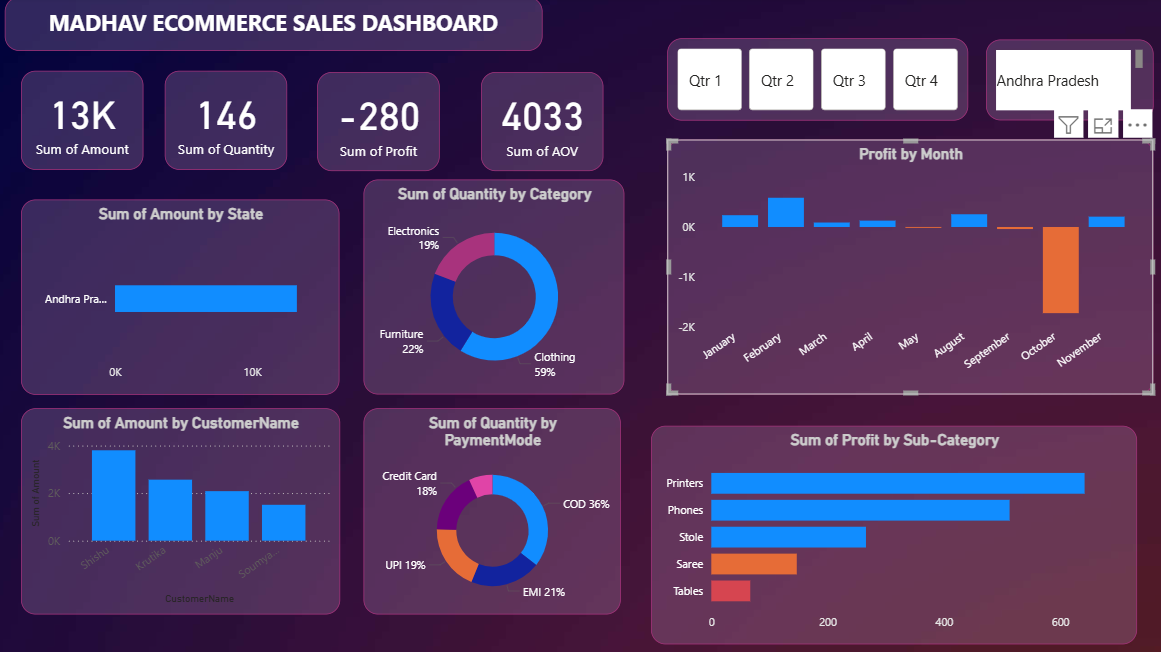

The page's visual inventory and layout, read from the dashboard file:
{"tool":"powerbi","page":{"name":"Page 1","canvas":[1280,720],"ordinal":0},"visuals":[{"type":"textbox","box":[9.6,0,590.1,59],"z":0},{"type":"columnChart","title":"Profit by Month","fields":{"Category":["Orders.Order Date.Variation.Date Hierarchy.Month"],"Y":["Details.Profit"]},"box":[736.9,156.4,533.8,279.9],"z":1000},{"type":"barChart","fields":{"Category":["Details.Sub-Category"],"Y":["Details.Profit"]},"box":[719,470.7,533.8,240.1],"z":2000},{"type":"donutChart","fields":{"Category":["Details.Category"],"Y":["Details.Quantity"]},"box":[403.4,200.3,286.8,236],"z":3000},{"type":"donutChart","fields":{"Y":["Details.Quantity"],"Category":["Details.PaymentMode"]},"box":[403.4,451.5,282.7,226.4],"z":4000},{"type":"card","fields":{"Values":["Details.Amount"]},"box":[27.4,81,134.5,108.4],"z":5000},{"type":"card","fields":{"Values":["Details.Quantity"]},"box":[185.2,81,134.5,108.4],"z":6000},{"type":"card","fields":{"Values":["Details.Profit"]},"box":[352.7,82.3,134.5,108.4],"z":7000},{"type":"card","fields":{"Values":["Details.AOV"]},"box":[532.4,82.3,134.5,108.4],"z":8000},{"type":"barChart","fields":{"Category":["Orders.State"],"Y":["Details.Amount"]},"box":[27.4,222.3,349.9,214.1],"z":9000},{"type":"columnChart","fields":{"Category":["Orders.CustomerName"],"Y":["Details.Amount"]},"box":[27,451,350,226],"z":10000},{"type":"advancedSlicerVisual","fields":{"Values":["Orders.Order Date.Variation.Date Hierarchy.Quarter"]},"box":[736.9,45.3,330.7,90.6],"z":11000},{"type":"listSlicer","fields":{"Values":["Orders.State"]},"box":[1086.8,46.7,183.9,89.2],"z":12000}]}

Visuals, with their boxes in screenshot pixels (x1, y1, x2, y2), scaled from the page's 1280x720 canvas onto the 1161x652 screenshot:
textbox: BBox(9, 0, 544, 53)
"Profit by Month" columnChart: BBox(668, 142, 1153, 395)
barChart - Details.Sub-Category x Details.Profit: BBox(652, 426, 1136, 644)
donutChart - Details.Category x Details.Quantity: BBox(366, 181, 626, 395)
donutChart - Details.Quantity x Details.PaymentMode: BBox(366, 409, 622, 614)
card - Details.Amount: BBox(25, 73, 147, 172)
card - Details.Quantity: BBox(168, 73, 290, 172)
card - Details.Profit: BBox(320, 75, 442, 173)
card - Details.AOV: BBox(483, 75, 605, 173)
barChart - Orders.State x Details.Amount: BBox(25, 201, 342, 395)
columnChart - Orders.CustomerName x Details.Amount: BBox(24, 408, 342, 613)
advancedSlicerVisual - Orders.Order Date.Variation.Date Hierarchy.Quarter: BBox(668, 41, 968, 123)
listSlicer - Orders.State: BBox(986, 42, 1153, 123)
